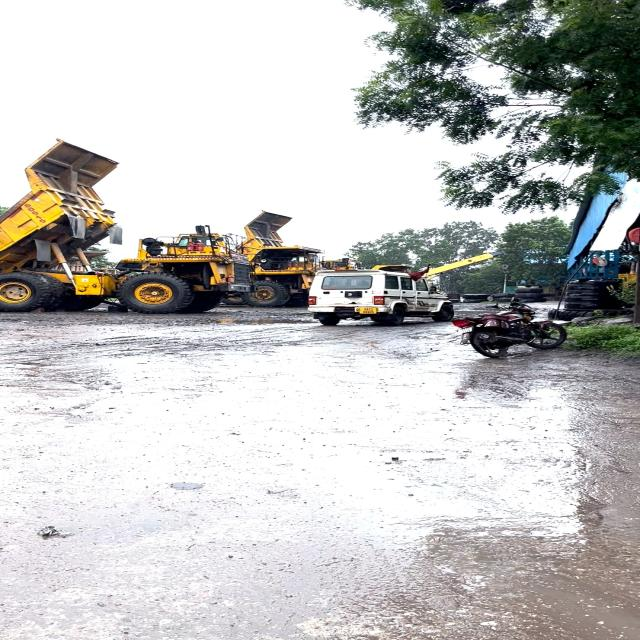dump_truck: (3, 137, 224, 315), (238, 206, 310, 302)
light_vehicle: (311, 266, 452, 326)
